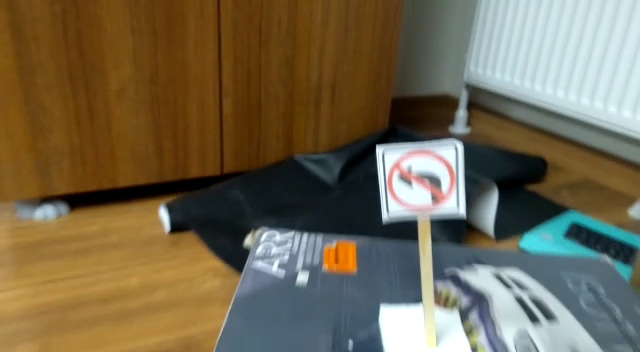sola_donulmez: (384, 143, 461, 215)
